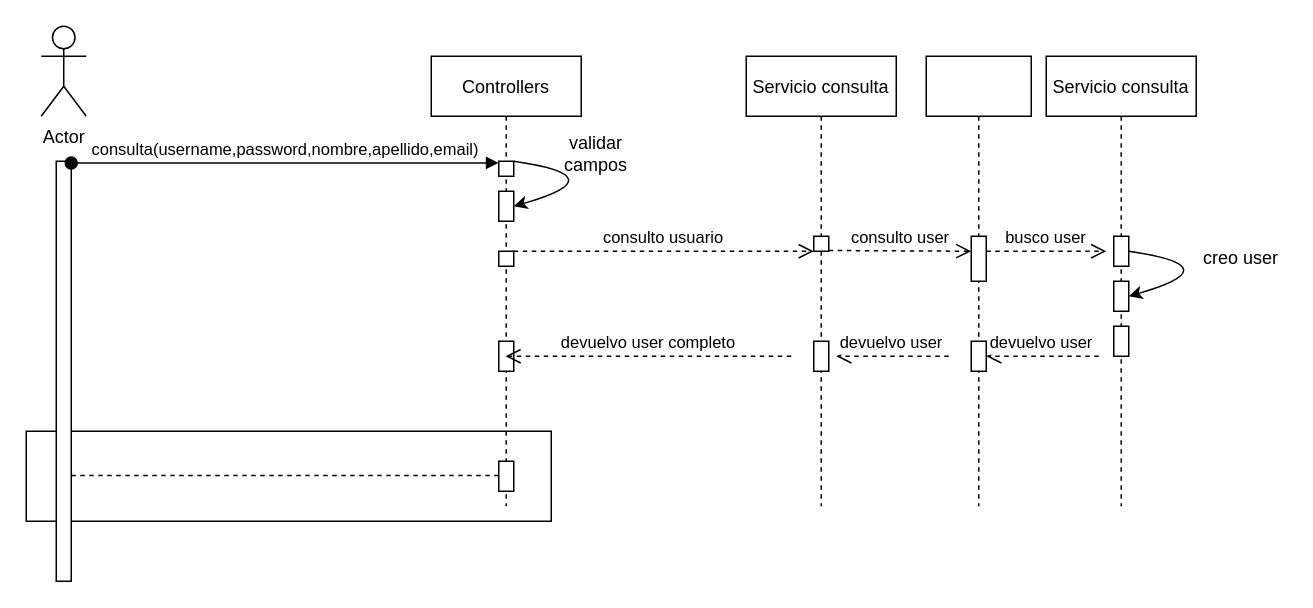
Some shapes in this 1313 by 608 pixel diagram are drawn without their labels. The centre of each missing label's shape, as x and y in pixels:
DAO: (x=978, y=280)
usuario creado exitosamente: (x=288, y=475)
